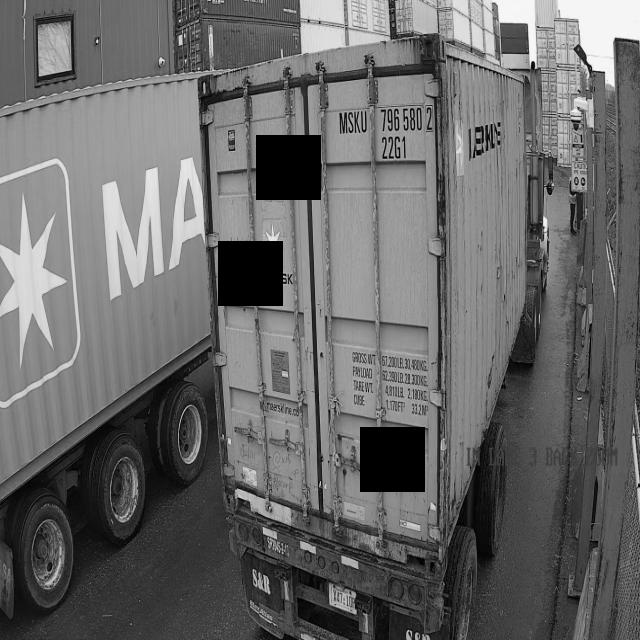container_company_logo: (258, 218, 293, 284)
container_number: (330, 93, 458, 170)
driver: (565, 171, 577, 242)
license_plate: (329, 583, 356, 614)
other_container_info: (351, 341, 432, 420)
truck_with_container: (199, 34, 554, 640), (0, 75, 211, 618)
